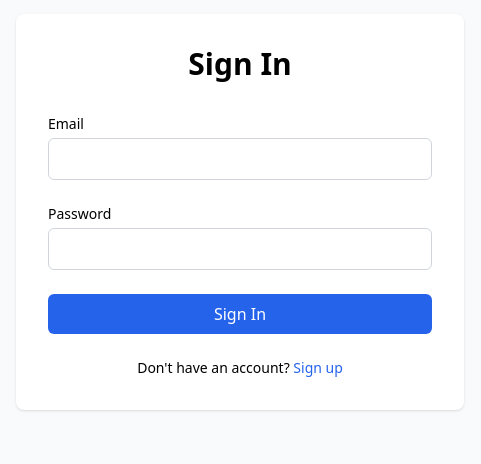
Test: Login Page › displays error message on login failure
The image size is (481, 464).
Type "test@example.com" into the field labelled "Email" at (240, 159), box 48,138 -> 432,180
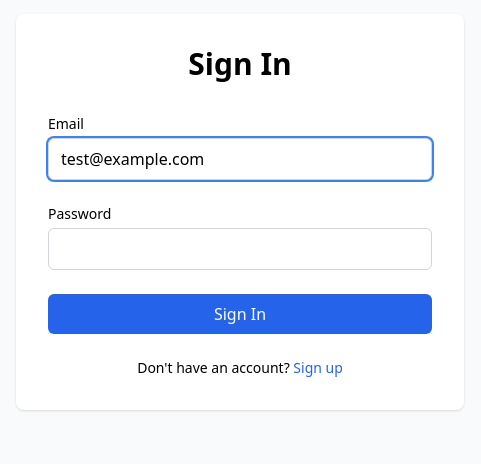
Type "wrongpassword" into the password field labelled "Password" at (240, 249), box 48,228 -> 432,270
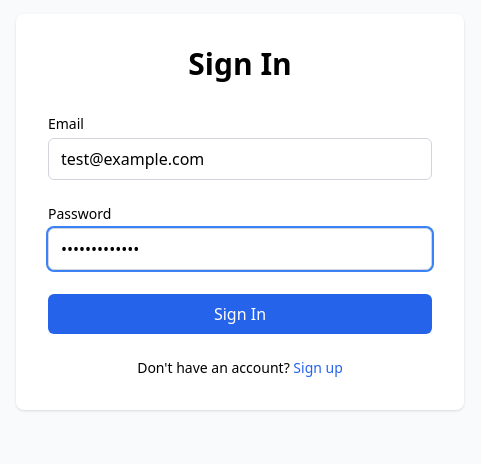
Click the button "Sign In" at (240, 314), box 48,294 -> 432,334
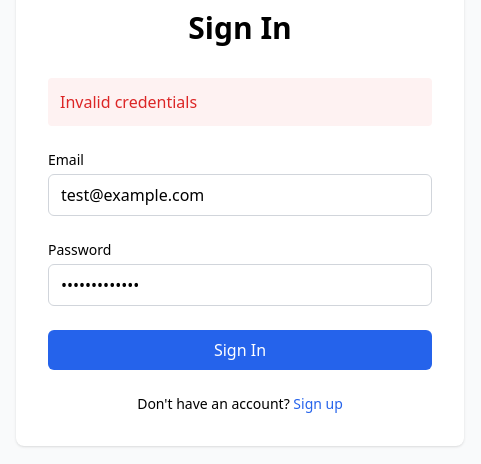
Expected: the text "Invalid credentials" is shown, 48,78 -> 432,126
